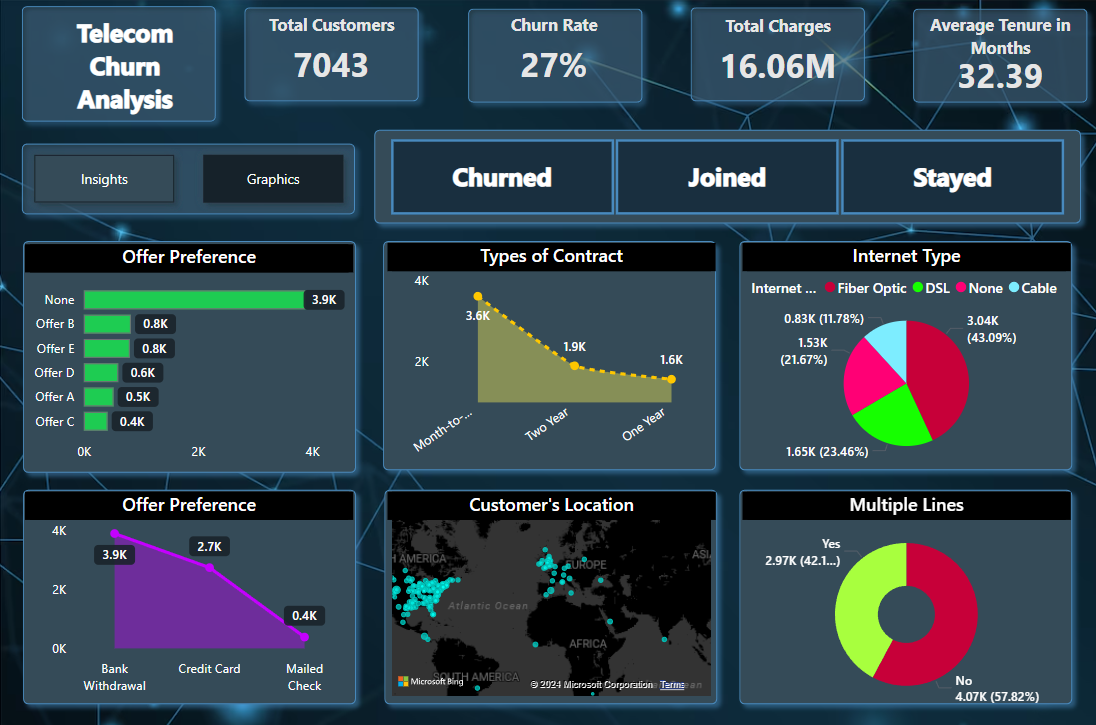

This screenshot's page, from the dashboard's own definition file:
{"tool":"powerbi","page":{"name":"Graphics","canvas":[1280,720],"ordinal":1},"visuals":[{"type":"shape","box":[338.3,4.8,186.2,108.8],"z":0},{"type":"shape","box":[553.8,6,186.2,108.8],"z":1000},{"type":"shape","box":[769,4.5,186.2,108.8],"z":2000},{"type":"shape","box":[983.5,6,186.2,108.8],"z":3000},{"type":"card","title":"Total Customers","fields":{"Values":[" Measures.Total Customers"]},"box":[352,19.5,157.5,78.8],"z":4000},{"type":"card","title":"Churn Rate","fields":{"Values":[" Measures.Churned Rate"]},"box":[567.5,19.5,157.5,78.8],"z":5000},{"type":"card","title":"Total Charges","fields":{"Values":["Sum(telco.Total Charges)"]},"box":[782.8,19.9,157.5,78.8],"z":6000},{"type":"card","title":"Average Tenure in Months","fields":{"Values":[" Measures.Avg Tenure Months"]},"box":[997.3,19.5,157.5,78.8],"z":7000},{"type":"shape","box":[123.8,231,339.3,241.7],"z":8000},{"type":"shape","box":[123.8,470.2,339.3,225],"z":9000},{"type":"shape","box":[471.4,231,339.3,239.3],"z":10000},{"type":"shape","box":[472.6,470.2,339.3,225],"z":11000},{"type":"shape","box":[815.5,231,339.3,239.3],"z":12000},{"type":"shape","box":[815.5,470.2,339.3,225],"z":13000},{"type":"shape","box":[463.1,122.6,700,108.3],"z":14000},{"type":"slicer","fields":{"Values":["telco.Customer Status"]},"box":[461.9,133.3,700,86.9],"z":15000},{"type":"barChart","title":"Offer Preference","fields":{"Category":["telco.Offer"],"Y":[" Measures.Total Customers"]},"box":[135.7,242.9,316.7,219],"z":16000},{"type":"areaChart","title":"Types of Contract","fields":{"Y":[" Measures.Total Customers"],"Category":["telco.Contract"]},"box":[484.5,241.7,316.7,219],"z":17000},{"type":"pieChart","title":"Internet Type","fields":{"Y":[" Measures.Total Customers"],"Category":["telco.Internet Type"]},"box":[827.4,241.7,316.7,219],"z":18000},{"type":"lineChart","title":"Offer Preference","fields":{"Category":["telco.Payment Method"],"Y":[" Measures.Total Customers"]},"box":[135.7,481,316.7,202.4],"z":19000},{"type":"map","title":"Customer''s Location","fields":{"Category":["telco.City"],"Size":[" Measures.Total Customers"]},"box":[484.7,481.1,316.8,202.8],"z":20000},{"type":"donutChart","title":"Multiple Lines","fields":{"Category":["telco.Multiple Lines"],"Y":[" Measures.Total Customers"]},"box":[827.9,481.1,316.8,214.8],"z":21000},{"type":"shape","box":[123.6,3.6,205.2,129.6],"z":22000},{"type":"textbox","box":[135.6,16.8,193.2,116.4],"z":23000},{"type":"shape","box":[123.6,136.5,339.6,86.4],"z":24000},{"type":"pageNavigator","box":[135.6,147.3,316.8,64.8],"z":25000}]}

Visuals, with their boxes on the page's 1280x720 design canvas (x1, y1, x2, y2). These are canvas units, not pixel positions in the 1096x725 screenshot, which may show the page scaled, cropped or inside an application window:
shape: rect(338, 5, 524, 114)
shape: rect(554, 6, 740, 115)
shape: rect(769, 4, 955, 113)
shape: rect(984, 6, 1170, 115)
"Total Customers" card: rect(352, 20, 510, 98)
"Churn Rate" card: rect(568, 20, 725, 98)
"Total Charges" card: rect(783, 20, 940, 99)
"Average Tenure in Months" card: rect(997, 20, 1155, 98)
shape: rect(124, 231, 463, 473)
shape: rect(124, 470, 463, 695)
shape: rect(471, 231, 811, 470)
shape: rect(473, 470, 812, 695)
shape: rect(816, 231, 1155, 470)
shape: rect(816, 470, 1155, 695)
shape: rect(463, 123, 1163, 231)
slicer - telco.Customer Status: rect(462, 133, 1162, 220)
"Offer Preference" barChart: rect(136, 243, 452, 462)
"Types of Contract" areaChart: rect(484, 242, 801, 461)
"Internet Type" pieChart: rect(827, 242, 1144, 461)
"Offer Preference" lineChart: rect(136, 481, 452, 683)
"Customer''s Location" map: rect(485, 481, 802, 684)
"Multiple Lines" donutChart: rect(828, 481, 1145, 696)
shape: rect(124, 4, 329, 133)
textbox: rect(136, 17, 329, 133)
shape: rect(124, 136, 463, 223)
pageNavigator: rect(136, 147, 452, 212)
